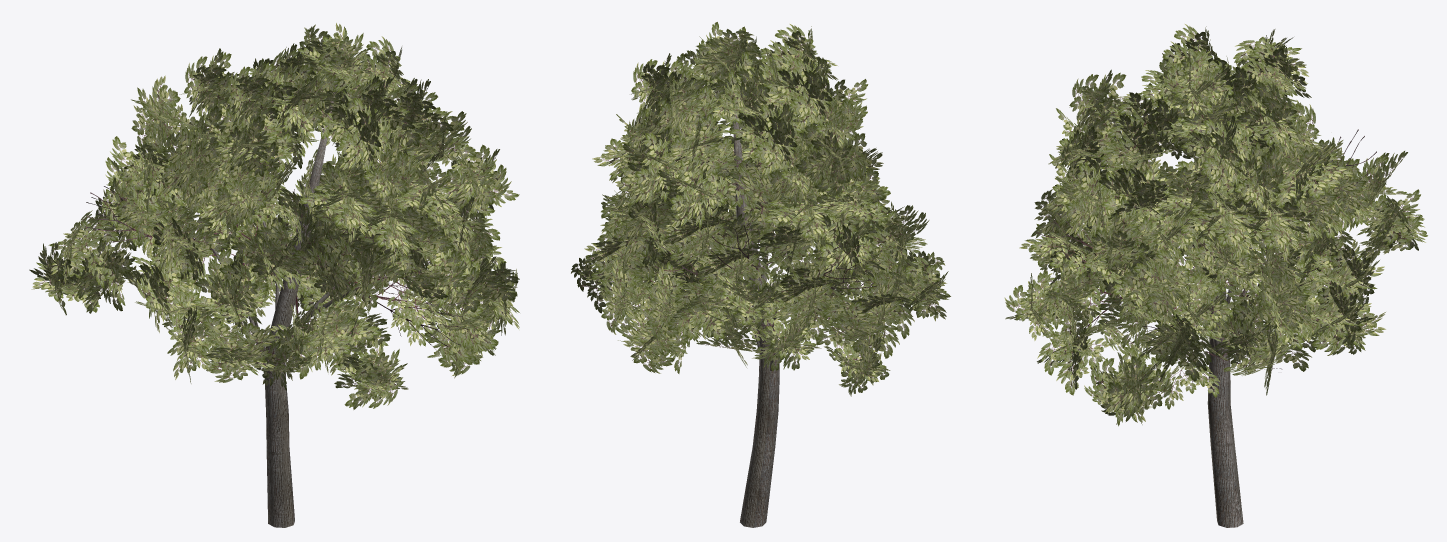
File: Tree_001.FBX
3 views of the same model, side by side, from view 1: azimuth 30°, elevation 25°; view 2: azimuth 150°, elevation 25°; view 3: azimuth 270°, elevation 25° (orthographic). The views are drawn at different scales.
Visible parts, largest first — view 1: Tree_001; view 2: Tree_001; view 3: Tree_001.
Part boxes in pixels (left/top/right/bottom): Tree_001: left=29, top=23, right=519, bottom=527; Tree_001: left=571, top=22, right=950, bottom=527; Tree_001: left=1004, top=24, right=1427, bottom=527.
Bounding box in the file's own units: 397 × 468 × 380.
